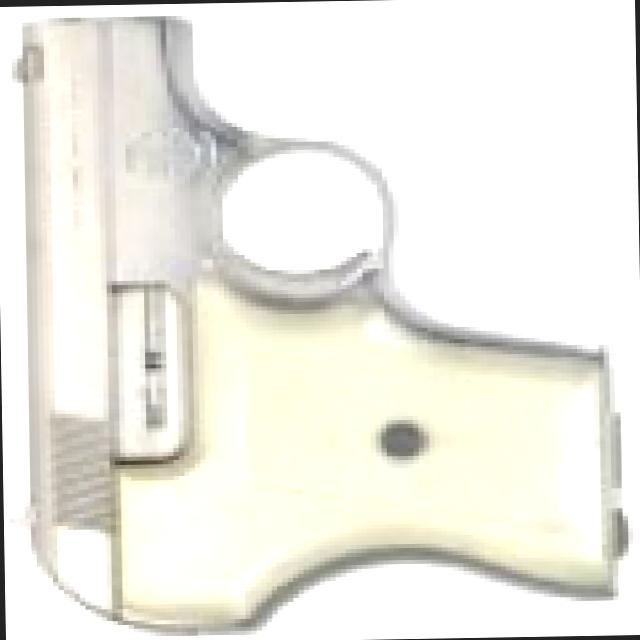handgun: (1, 22, 618, 634)
